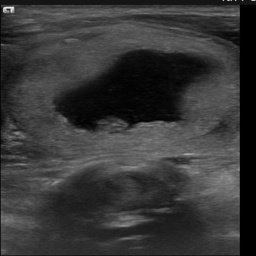mass: (14, 32, 237, 151)
